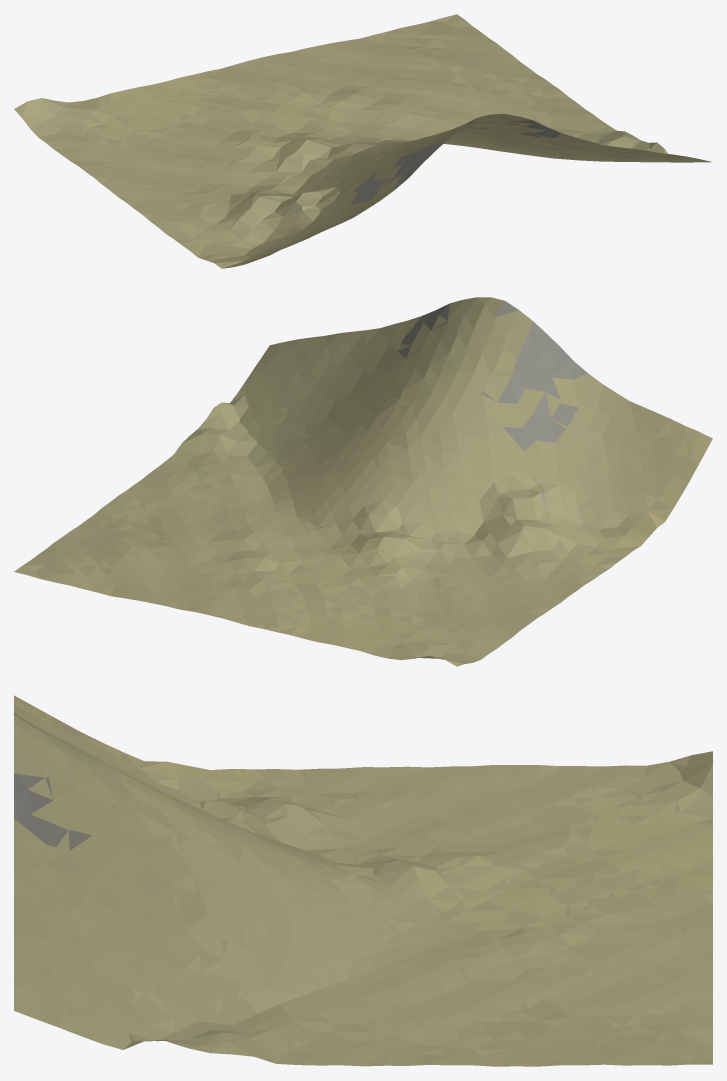
File: Ground_3_0.glb
3 views of the same model, one above another, from view 1: azimuth 30°, elevation 25°; view 2: azimuth 150°, elevation 25°; view 3: azimuth 270°, elevation 25° (orthographic). The views are drawn at different scales.
Parts seen in each view (by area): view 1: Ground_3_0; view 2: Ground_3_0; view 3: Ground_3_0.
Boxes of the visible parts, x1,y1,x2,y2 form: Ground_3_0: (14, 14, 711, 268); Ground_3_0: (14, 297, 712, 666); Ground_3_0: (14, 695, 712, 1066).
Bounding box in the file's own units: 768 × 236 × 768.
